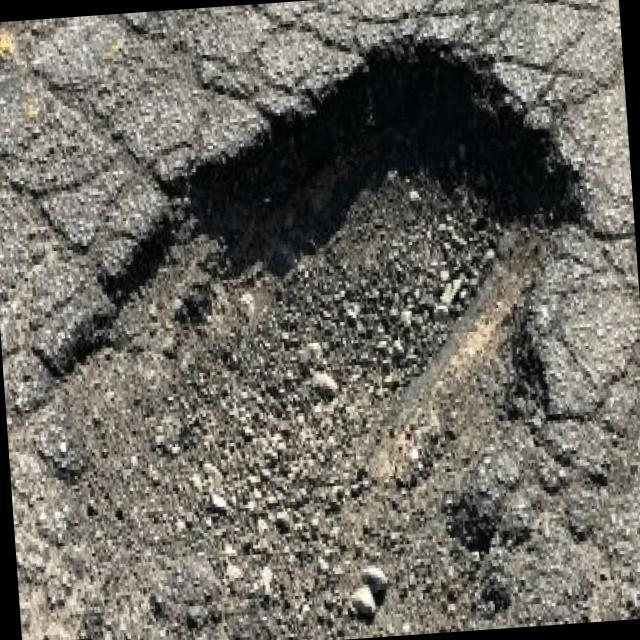Pothole: (1, 23, 602, 592)
